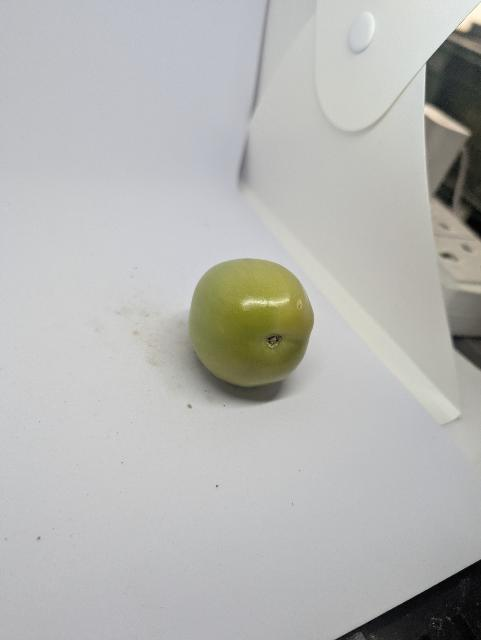green: (187, 255, 317, 390)
